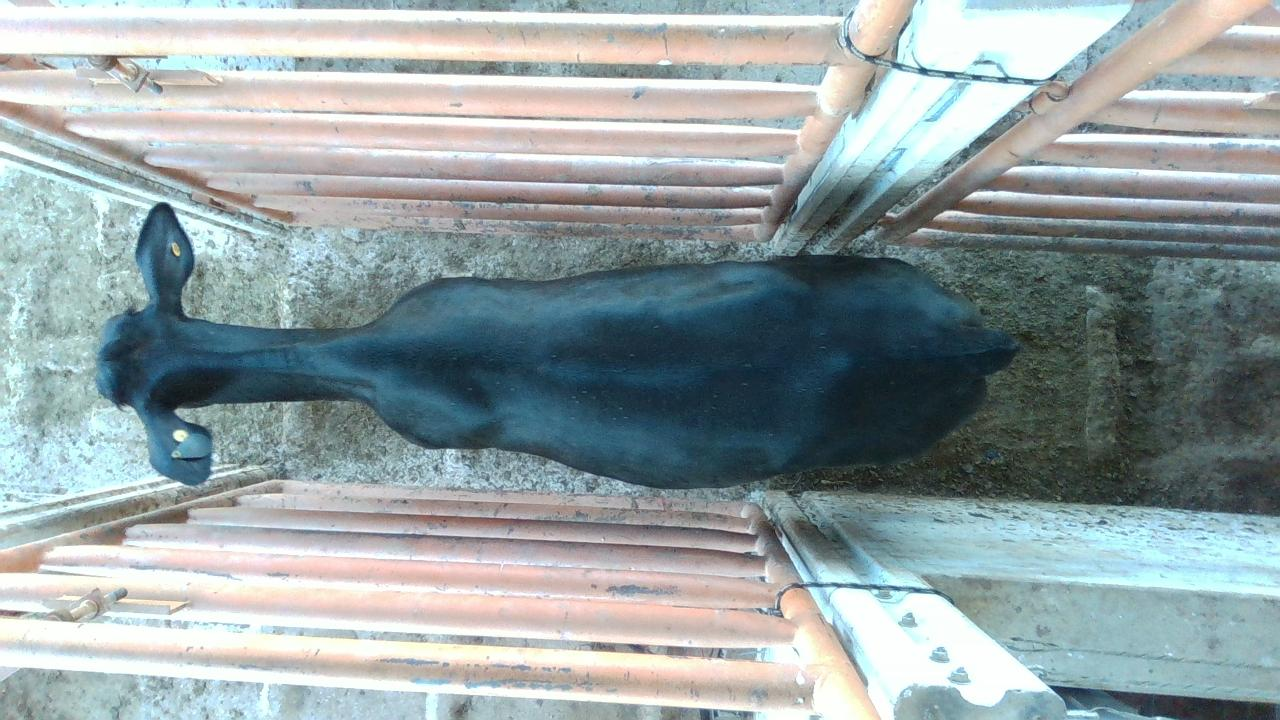cattle: (93, 201, 1020, 490)
